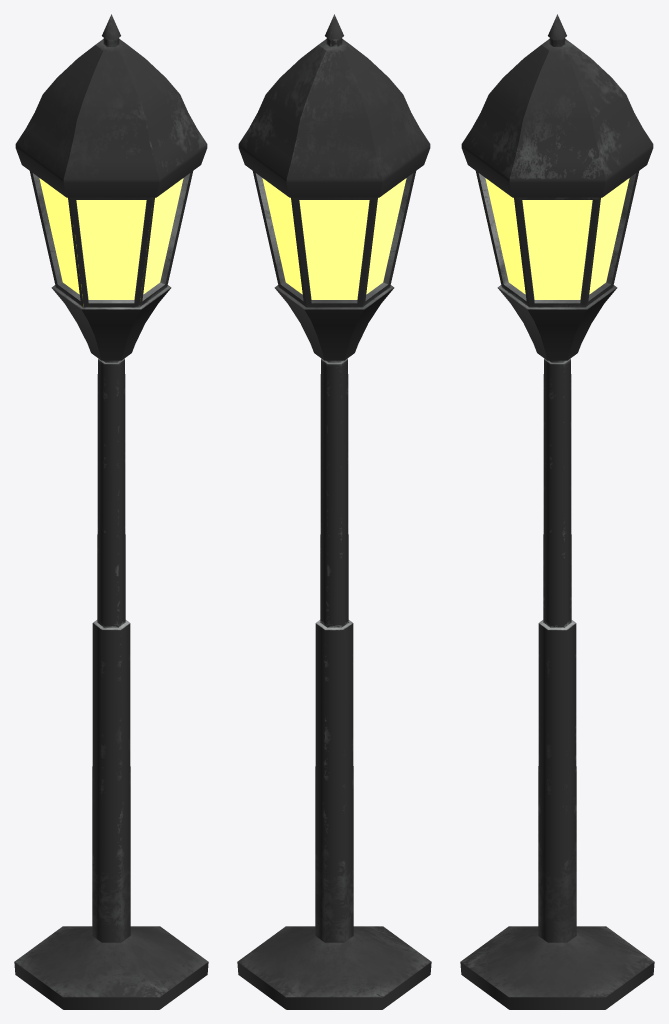
Rendered from LampPost.fbx.
3 views of the same model, side by side, from view 1: azimuth 30°, elevation 25°; view 2: azimuth 150°, elevation 25°; view 3: azimuth 270°, elevation 25° (orthographic).
Parts seen in each view (by area): view 1: LamPostL; view 2: LamPostL; view 3: LamPostL.
Boxes of the visible parts, <box> form: LamPostL: <box>14,14,208,1009</box>; LamPostL: <box>237,14,431,1009</box>; LamPostL: <box>460,14,654,1009</box>.
Bounding box in the file's own units: 49.28 × 311 × 56.91.
